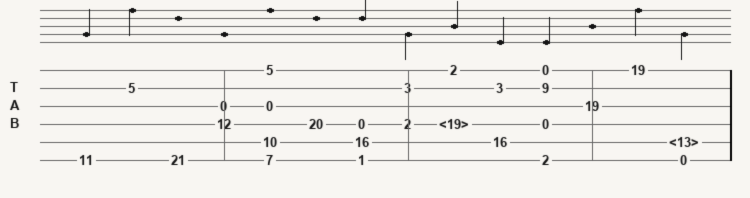0: (220, 99, 231, 113), (266, 99, 277, 113), (358, 117, 369, 131), (542, 63, 553, 77), (542, 117, 553, 131), (680, 153, 691, 167)
1: (358, 153, 369, 167)
10: (263, 135, 281, 149)
11: (79, 153, 97, 167)
12: (217, 117, 235, 131)
16: (355, 135, 373, 149), (493, 135, 511, 149)
19: (585, 99, 603, 113), (631, 63, 649, 77)
2: (404, 117, 415, 131), (450, 63, 461, 77), (542, 153, 553, 167)
20: (309, 117, 327, 131)
21: (171, 153, 189, 167)
3: (404, 81, 415, 95), (496, 81, 507, 95)
5: (128, 81, 139, 95), (266, 63, 277, 77)
7: (266, 153, 277, 167)
9: (542, 81, 553, 95)
harmonic: (439, 117, 473, 131), (669, 135, 703, 149)
